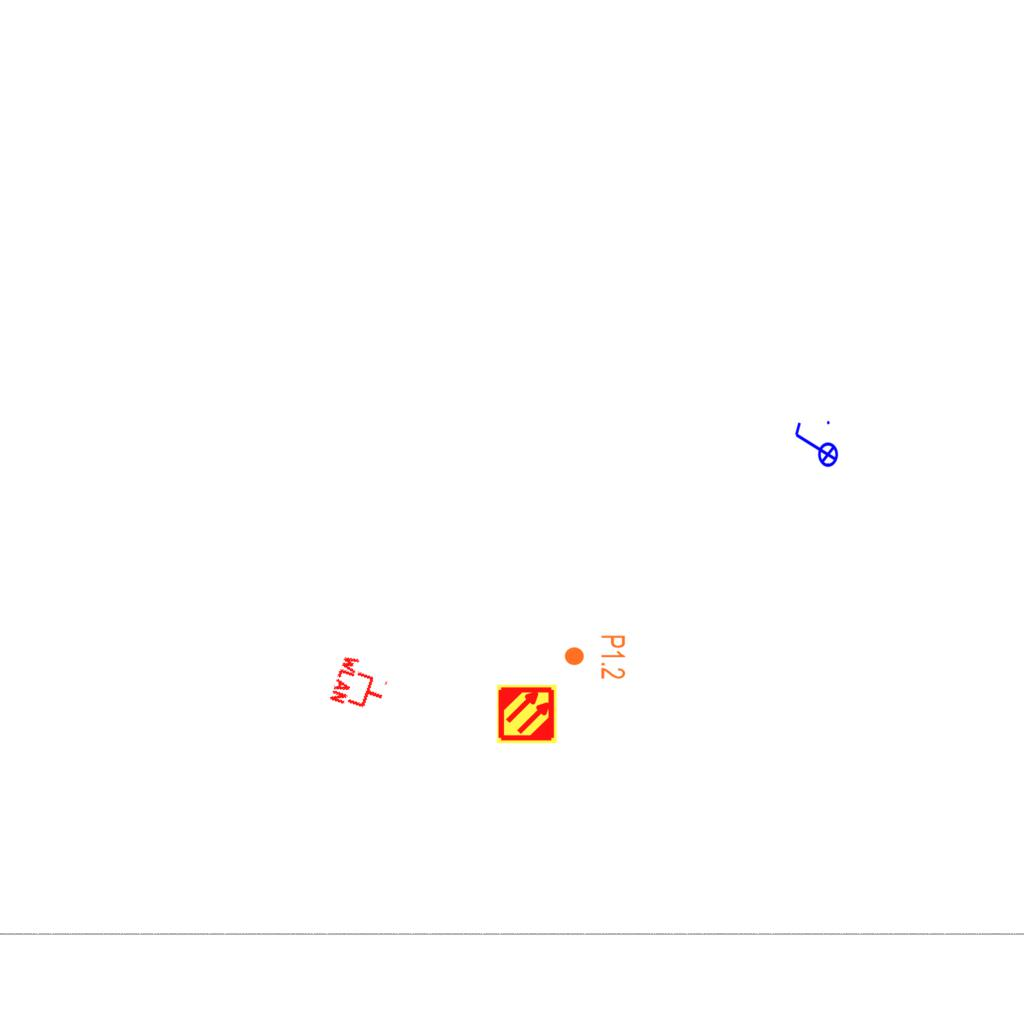ASR_Ansaugrauchmelder: (496, 683, 558, 745)
Ausschalter_beleuchtet: (791, 418, 839, 474)
Downlight_LED_Einbauleuchten_Flur: (563, 634, 627, 680)
WLAN: (327, 651, 395, 719)
